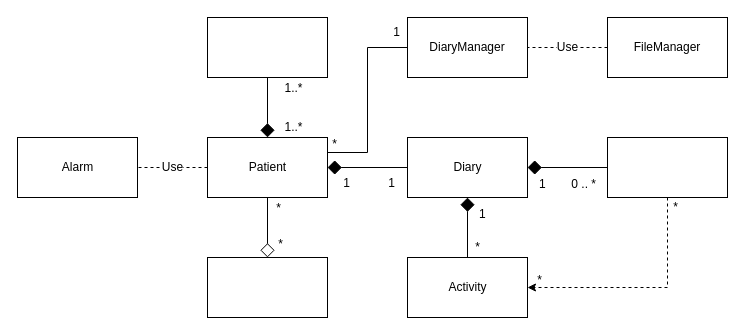
Some shapes in this 745 by 335 pixel diagram are drawn without their labels. The shapes that lost their labels are listed below. From the top down, each one's centre as x and y in pixels, then its label:
At (267,47): "Addiction".
At (667,167): "Entry".
At (267,287): "Doctor".
